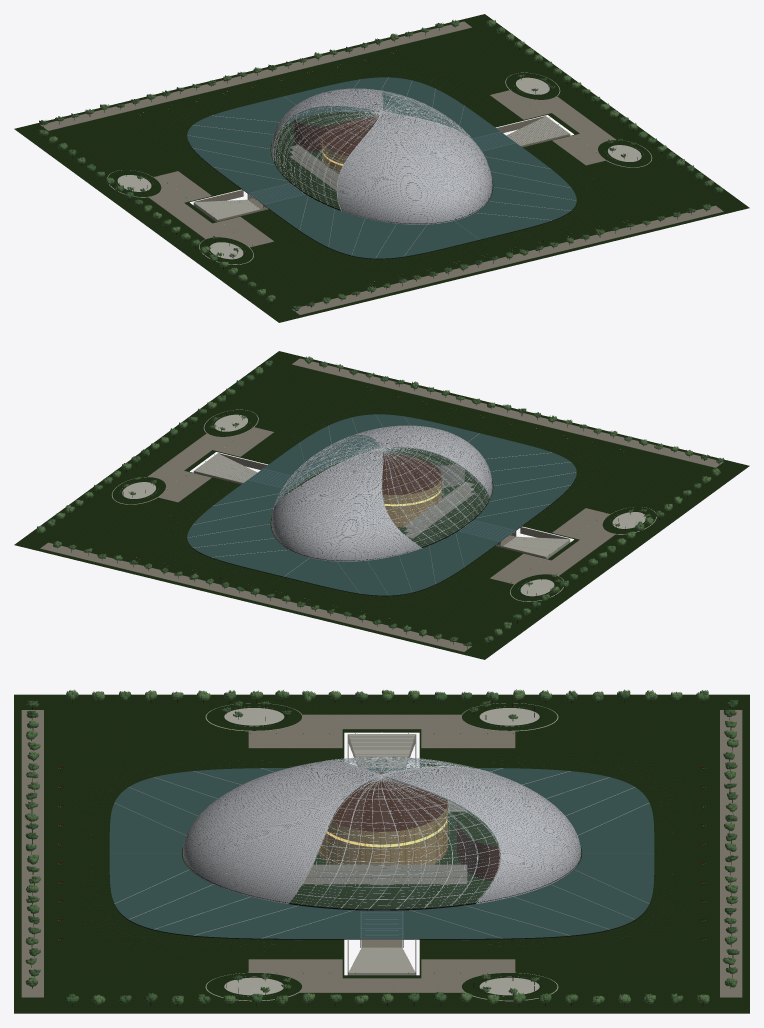
File: beijing-ncpa-balanced.glb
3 renders of one model, top to bottom at view 1: azimuth 30°, elevation 25°; view 2: azimuth 150°, elevation 25°; view 3: azimuth 270°, elevation 25°, orthographic. The views are drawn at different scales.
Parts seen in each view (by area): view 1: Site supporting ground, Reflecting pool surface, Tree line walkway, North south arrival plaza, Titanium panels tone 3, Titanium panels tone 1, Titanium panels tone 2, Titanium panels tone 5, Titanium panels tone 4, Elliptical lawn garden, Shell joint backing, South glass panes tint 2 (+15 smaller); view 2: Site supporting ground, Reflecting pool surface, Tree line walkway, North south arrival plaza, Titanium panels tone 3, Titanium panels tone 5, Titanium panels tone 4, Titanium panels tone 2, Titanium panels tone 1, Shell joint backing, Elliptical lawn garden, South glass panes tint 1 (+18 smaller); view 3: Site supporting ground, Reflecting pool surface, North south arrival plaza, Tree line walkway, Titanium panels tone 3, Titanium panels tone 4, Titanium panels tone 2, Titanium panels tone 1, Titanium panels tone 5, North glass panes tint 1, North glass panes tint 2, North glass panes tint 3 (+22 smaller).
Part boxes in pixels (bbox=[...]): Site supporting ground: bbox=[14, 14, 749, 322]; Reflecting pool surface: bbox=[187, 77, 576, 258]; Tree line walkway: bbox=[40, 21, 723, 314]; North south arrival plaza: bbox=[148, 90, 615, 247]; Titanium panels tone 3: bbox=[271, 88, 492, 224]; Titanium panels tone 1: bbox=[271, 88, 491, 224]; Titanium panels tone 2: bbox=[271, 88, 492, 224]; Titanium panels tone 5: bbox=[271, 88, 492, 224]; Titanium panels tone 4: bbox=[272, 88, 492, 224]; Elliptical lawn garden: bbox=[108, 72, 651, 264]; Shell joint backing: bbox=[272, 89, 490, 223]; South glass panes tint 2: bbox=[275, 108, 379, 208]; Site supporting ground: bbox=[14, 351, 749, 659]; Reflecting pool surface: bbox=[187, 414, 576, 595]; Tree line walkway: bbox=[40, 358, 723, 651]; North south arrival plaza: bbox=[147, 427, 615, 584]; Titanium panels tone 3: bbox=[271, 425, 492, 561]; Titanium panels tone 5: bbox=[271, 425, 492, 561]; Titanium panels tone 4: bbox=[271, 425, 492, 561]; Titanium panels tone 2: bbox=[271, 425, 492, 561]; Titanium panels tone 1: bbox=[271, 425, 492, 561]; Shell joint backing: bbox=[273, 426, 491, 560]; Elliptical lawn garden: bbox=[112, 409, 656, 601]; South glass panes tint 1: bbox=[382, 448, 487, 546]; Site supporting ground: bbox=[14, 694, 749, 1013]; Reflecting pool surface: bbox=[109, 767, 654, 938]; North south arrival plaza: bbox=[248, 714, 515, 992]; Tree line walkway: bbox=[21, 710, 742, 997]; Titanium panels tone 3: bbox=[183, 761, 580, 903]; Titanium panels tone 4: bbox=[183, 760, 581, 903]; Titanium panels tone 2: bbox=[183, 760, 580, 902]; Titanium panels tone 1: bbox=[182, 760, 580, 903]; Titanium panels tone 5: bbox=[182, 760, 580, 903]; North glass panes tint 1: bbox=[290, 778, 489, 909]; North glass panes tint 2: bbox=[302, 778, 500, 909]; North glass panes tint 3: bbox=[315, 777, 477, 908].
Size of the model in its own units: 402 by 51.42 by 392.
28 materials, 6 textured.
